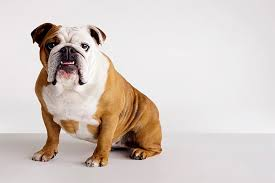Bulldog: (21, 15, 182, 165)
